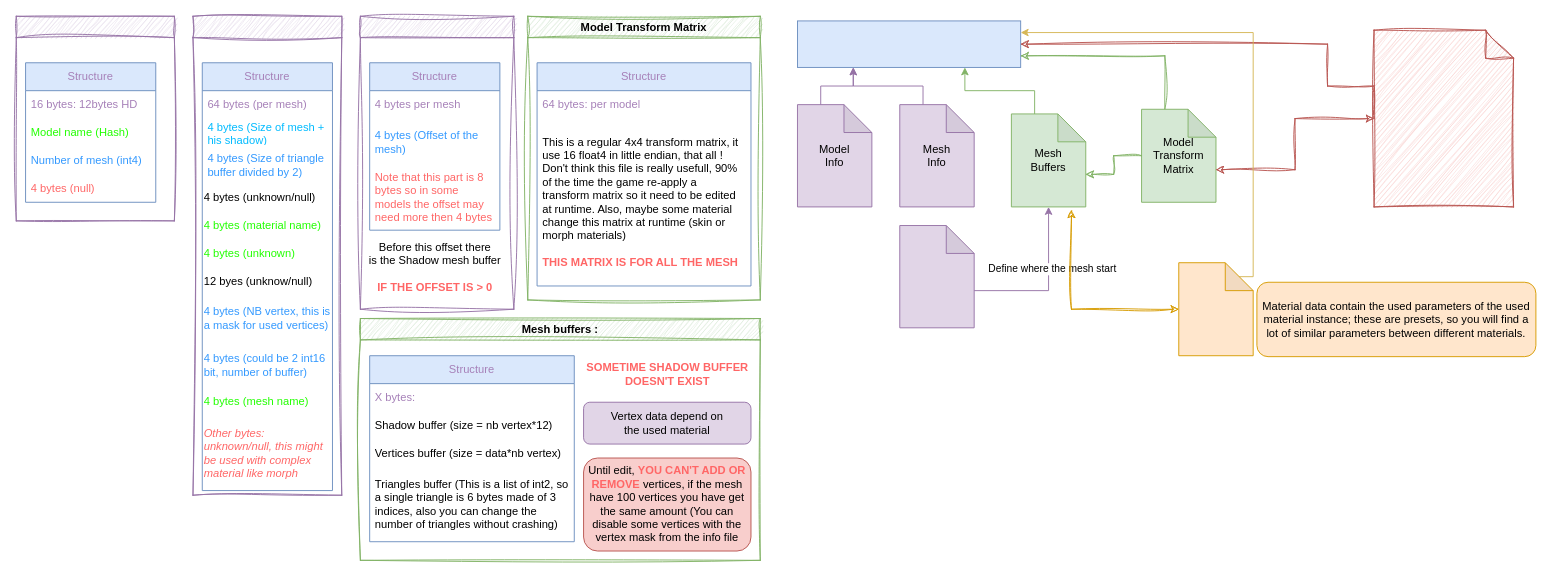
The diagram is 1552 pixels wide and 577 high, and some of its shapes have lost their labels. The box of each missing label's shape, as (x1, y1, x2, y2) in pixels:
.nlg format:: (797, 20, 1021, 67)
Material data: (1178, 262, 1253, 356)
Mesh Info:: (192, 15, 342, 495)
Model Info:: (15, 15, 174, 221)
Shadow Buffer Offset: (899, 225, 974, 328)
Skin Morph Bounding Box: (1373, 29, 1514, 207)
Vertex Start pointer :: (359, 15, 514, 309)
